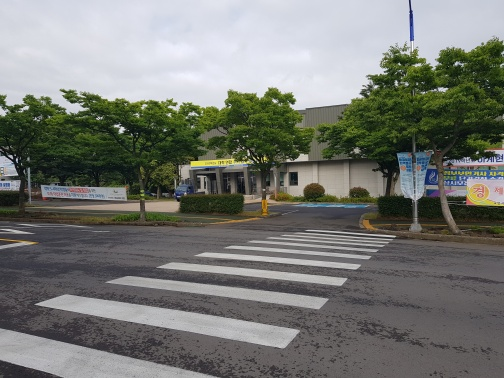Gym: (173, 96, 390, 199)
